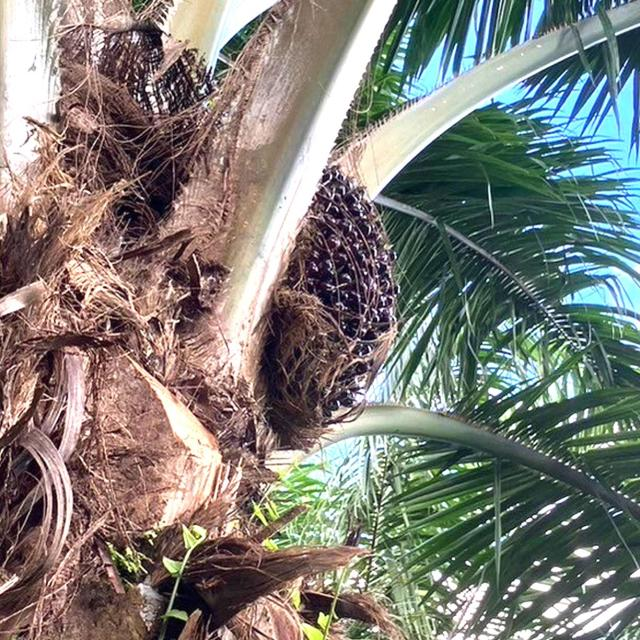ripe: (257, 153, 411, 463)
